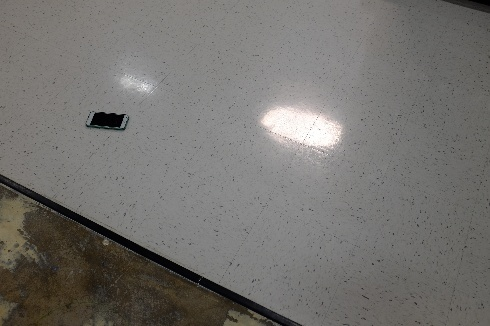phone: (81, 103, 130, 135)
